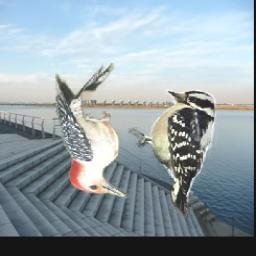Woodpecker: (130, 87, 218, 218), (56, 63, 133, 198)
